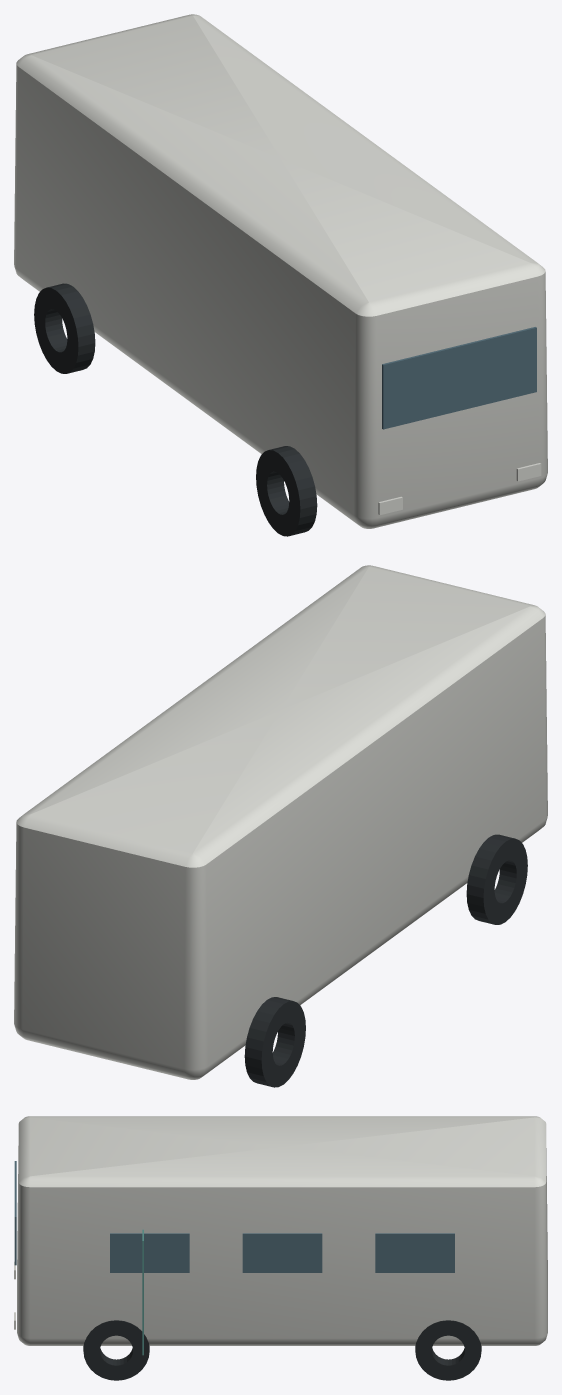
File: grand-prix-circuit-and-open-wheel-paddock-motorhome-9ada4239__15245.glb
3 views of the same model, one above another, from view 1: azimuth 30°, elevation 25°; view 2: azimuth 150°, elevation 25°; view 3: azimuth 270°, elevation 25° (orthographic). The views are drawn at different scales.
Parts seen in each view (by area): view 1: paddock-motorhome; view 2: paddock-motorhome; view 3: paddock-motorhome.
Boxes of the visible parts, x1,y1,x2,y2 form: paddock-motorhome: (14, 14, 547, 536); paddock-motorhome: (14, 565, 547, 1087); paddock-motorhome: (14, 1116, 547, 1380).
Size of the model in its own units: 3.13 by 3.3 by 8.05.
